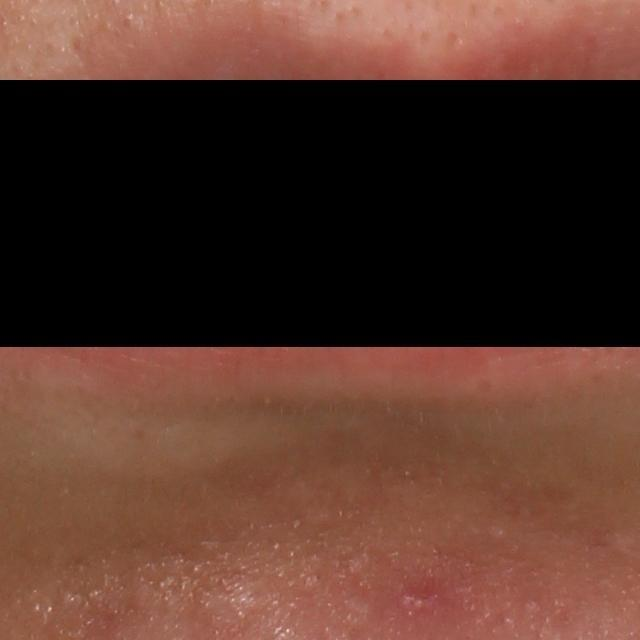papule: (402, 583, 432, 616)
